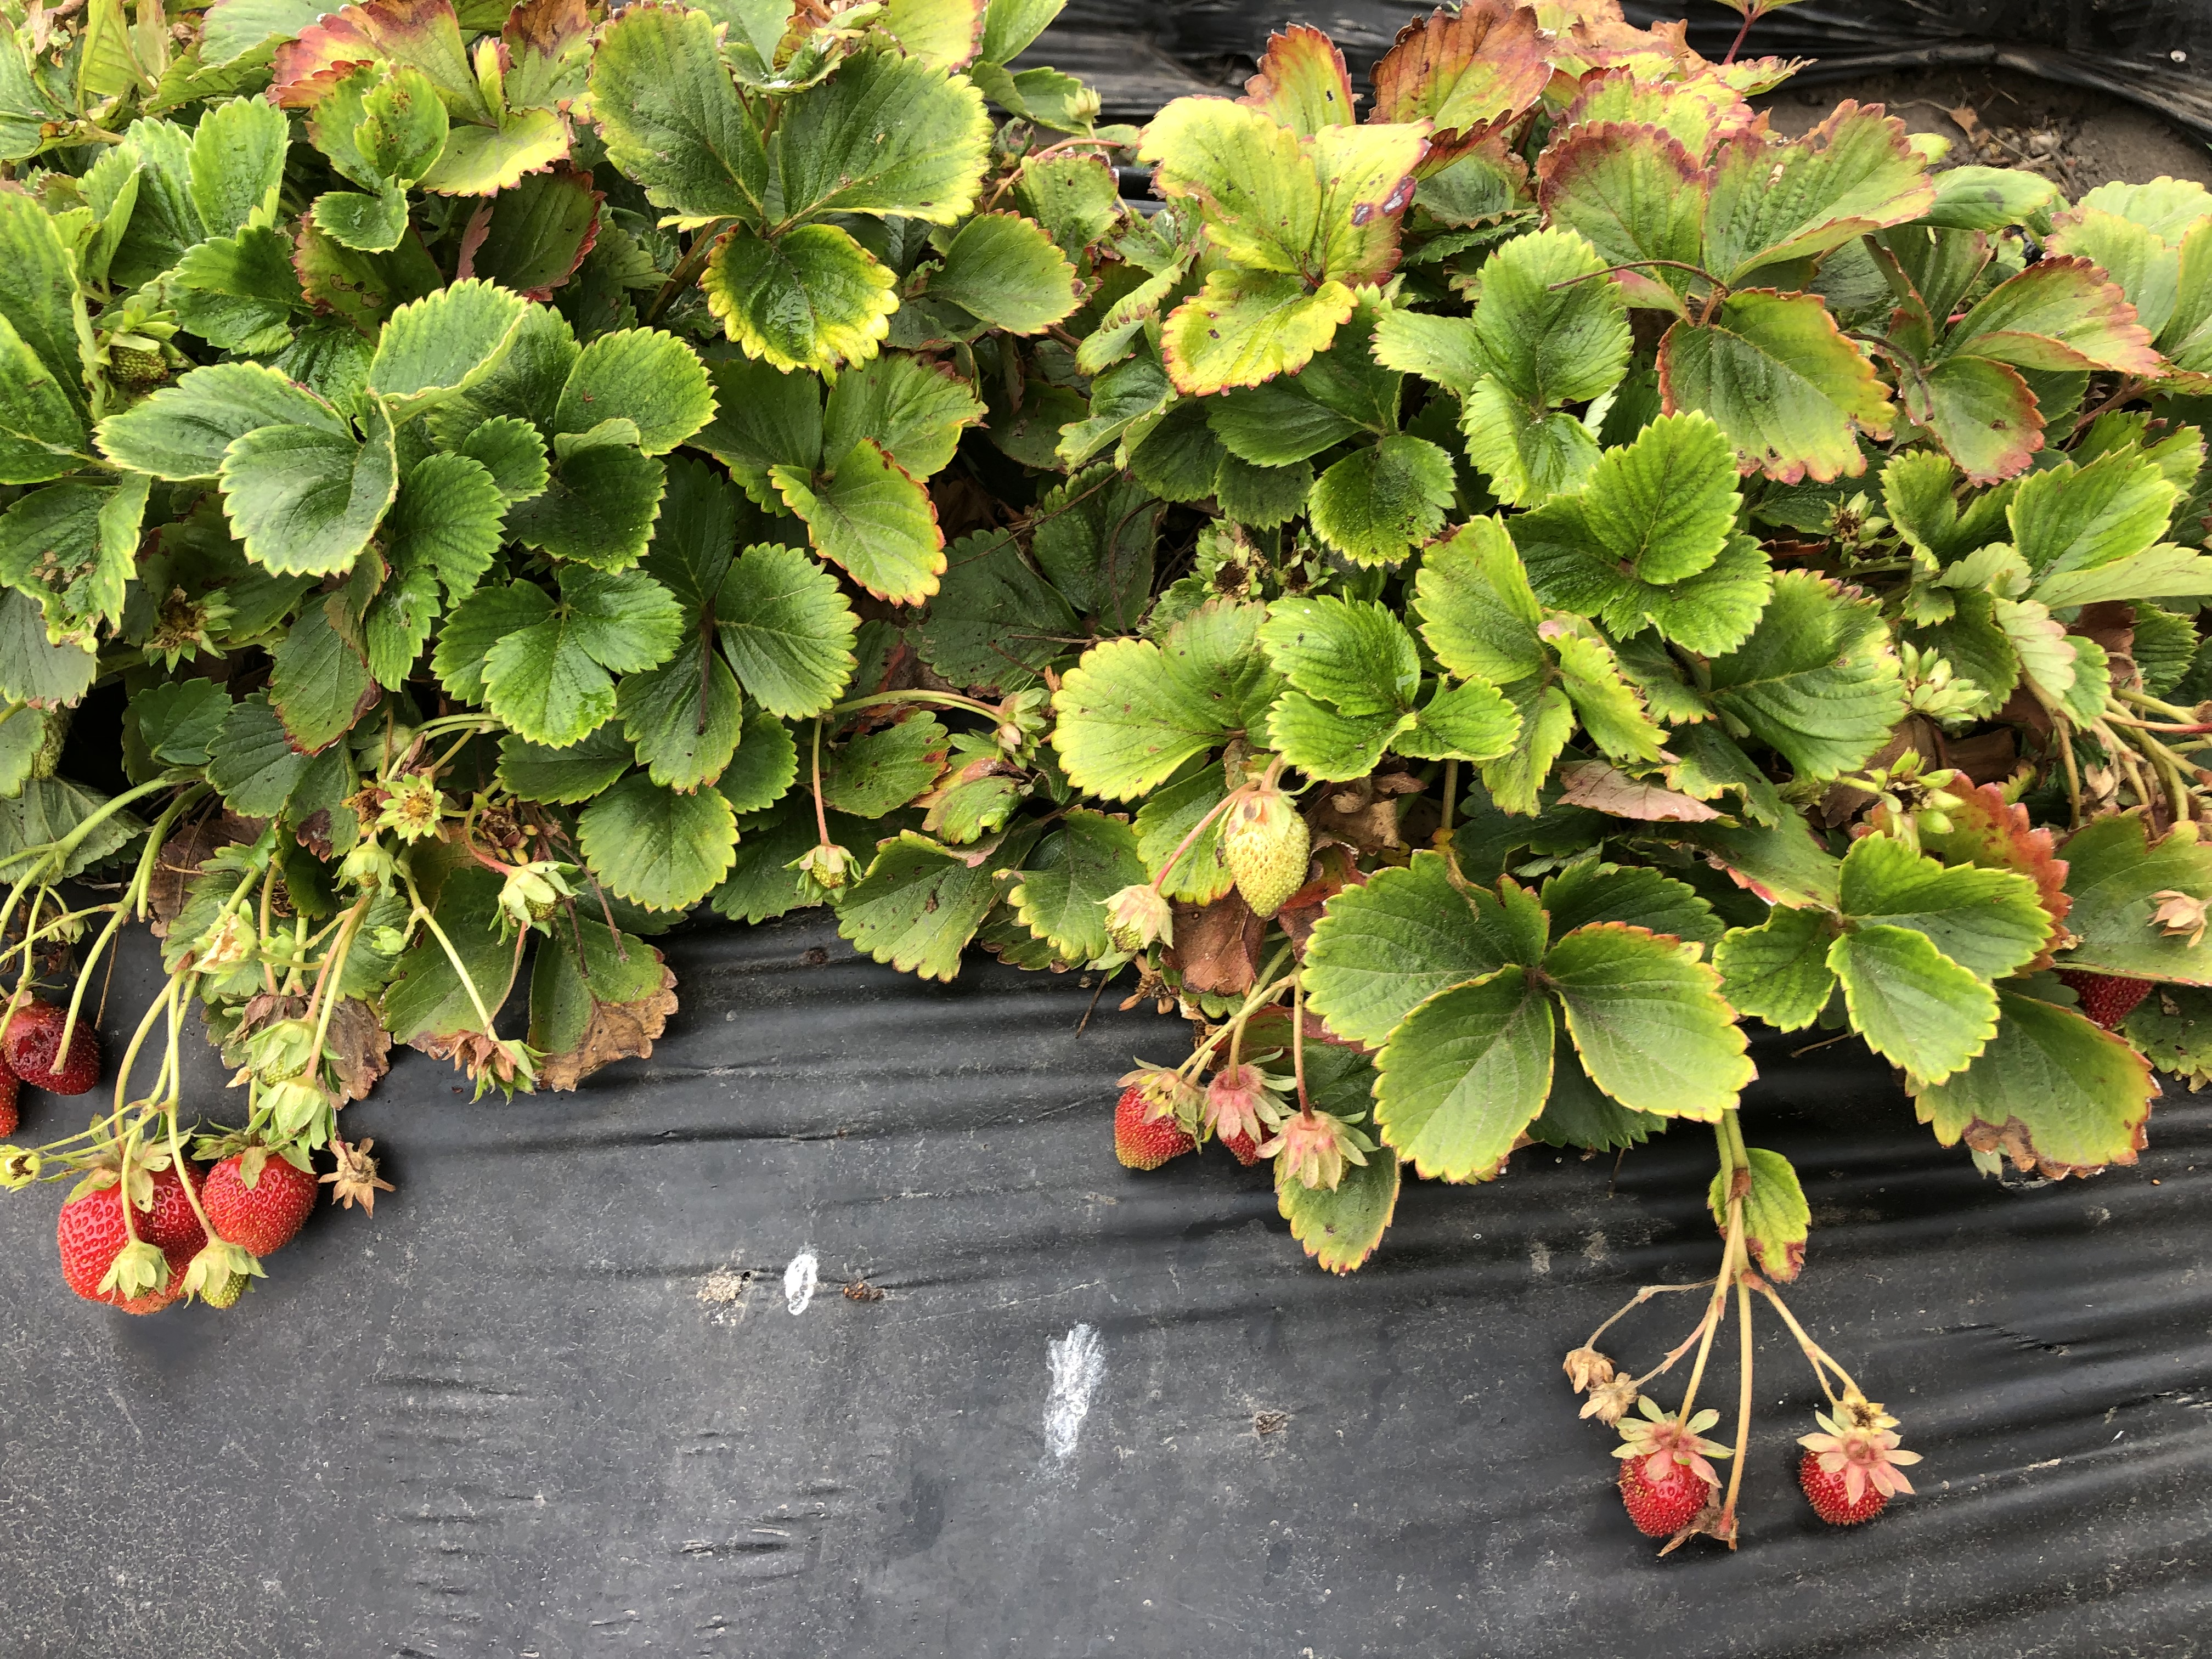ripe_strawberry: (56, 1148, 209, 1324), (199, 1121, 327, 1265), (1611, 1412, 1719, 1546), (0, 985, 113, 1100), (1794, 1419, 1911, 1528), (1108, 1058, 1205, 1178), (2055, 965, 2161, 1028), (0, 1065, 28, 1140)
unripe_strawberry: (1221, 779, 1317, 920), (179, 1236, 261, 1319)
